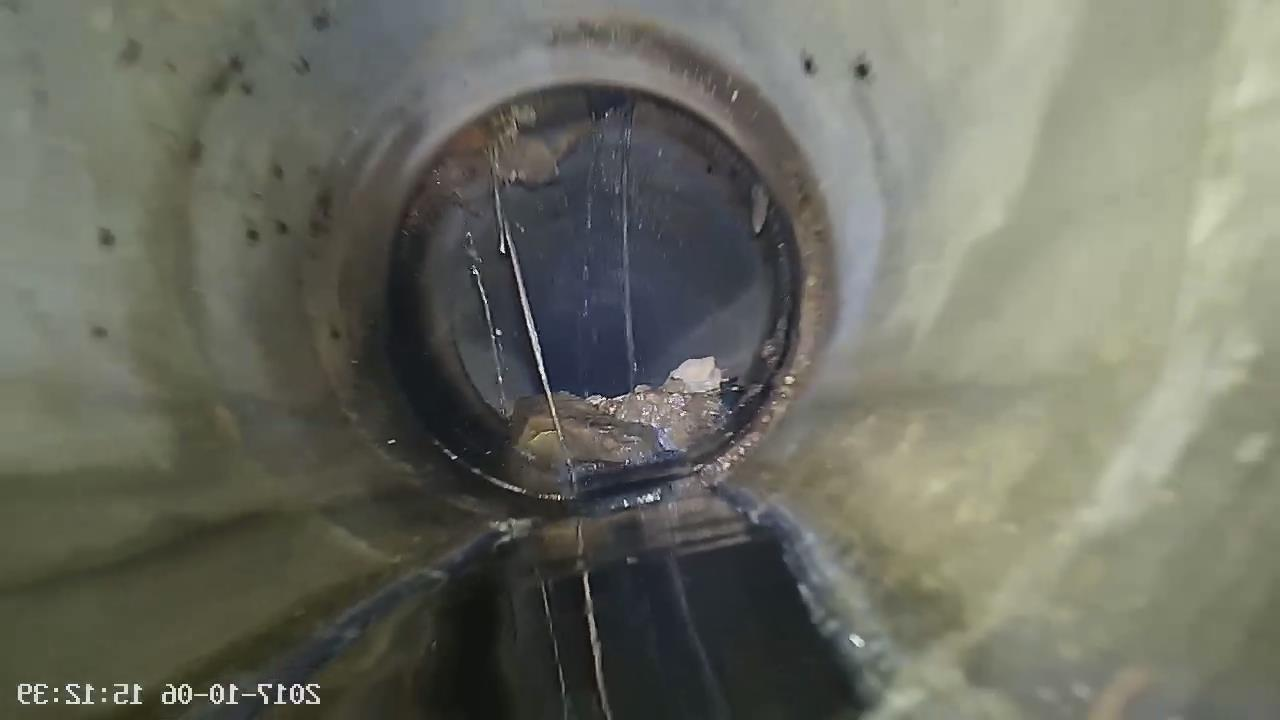SL: (415, 68, 672, 497)
